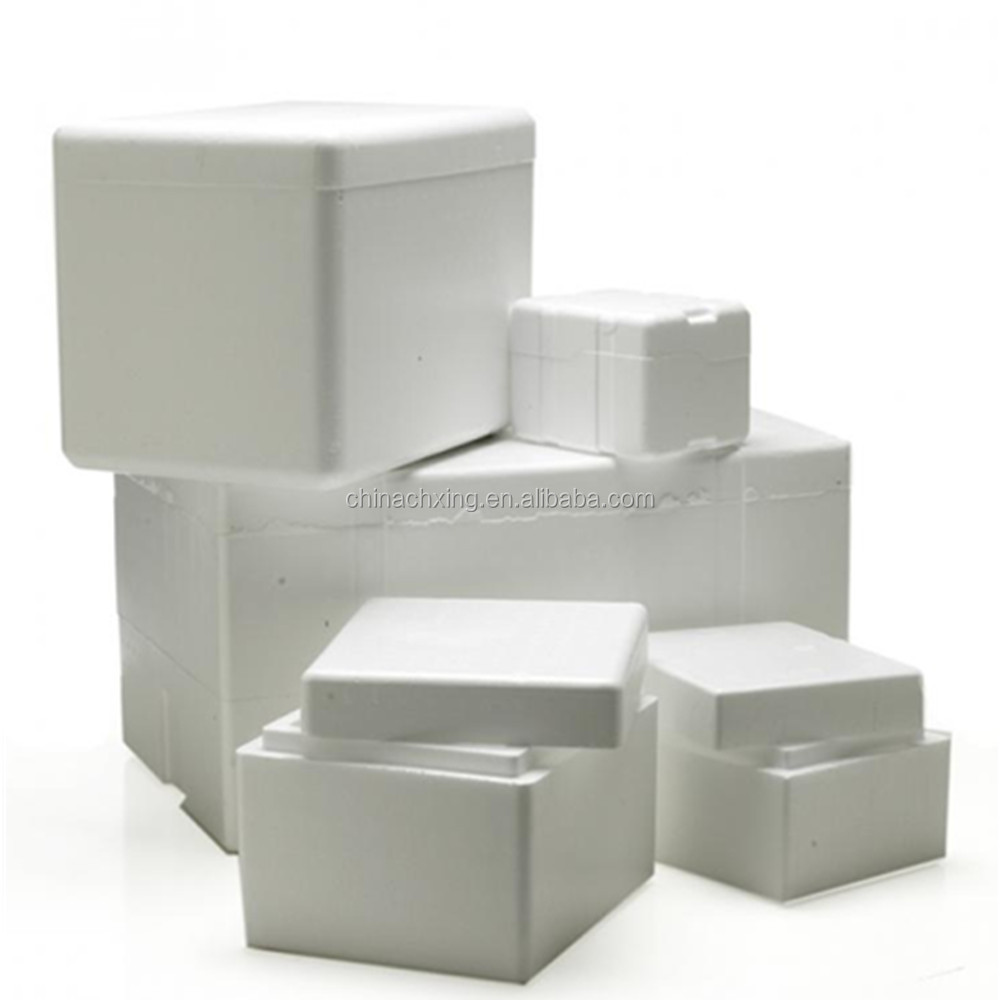Boxes: (56, 107, 950, 982)
